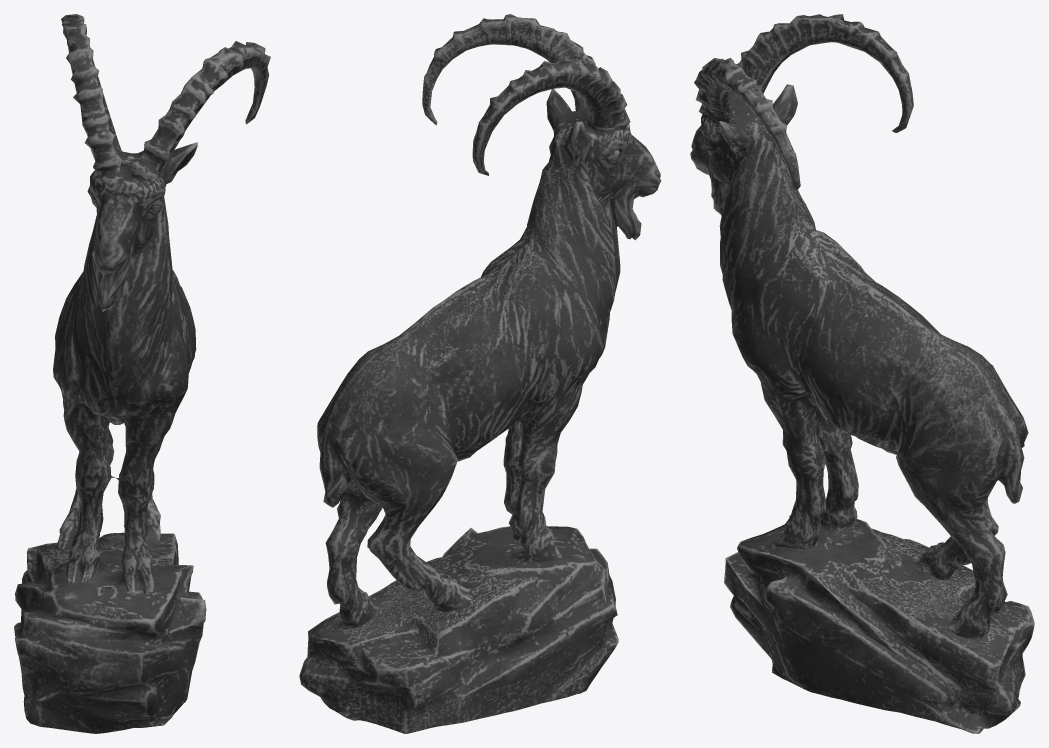
The model's file is goat.glb.
3 renders of one model, left to right at view 1: azimuth 30°, elevation 25°; view 2: azimuth 150°, elevation 25°; view 3: azimuth 270°, elevation 25°, orthographic. The views are drawn at different scales.
Parts seen in each view (by area): view 1: mesh2a_low; view 2: mesh2a_low; view 3: mesh2a_low.
Part boxes in pixels (<box>): mesh2a_low: <box>14,14,270,733</box>; mesh2a_low: <box>299,14,661,733</box>; mesh2a_low: <box>690,14,1034,733</box>.
Size of the model in its own units: 0.777 by 2 by 0.9806.
1 material, 1 textured.
